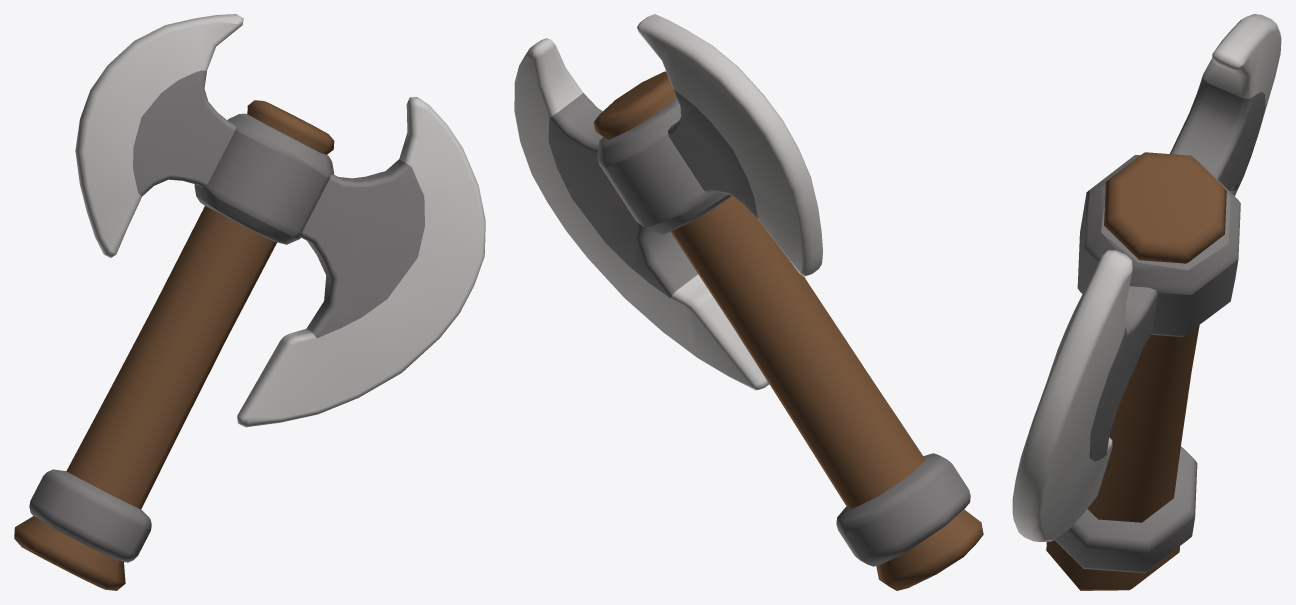
3 views of the same model, side by side, from view 1: azimuth 30°, elevation 25°; view 2: azimuth 150°, elevation 25°; view 3: azimuth 270°, elevation 25° (orthographic). The views are drawn at different scales.
Visible parts, largest first — view 1: model_1.016; view 2: model_1.016; view 3: model_1.016.
Boxes of the visible parts, left/top/right/bottom form: model_1.016: left=14, top=14, right=485, bottom=590; model_1.016: left=514, top=14, right=983, bottom=590; model_1.016: left=1012, top=14, right=1281, bottom=590.
Bounding box in the file's own units: 4.35 × 4.75 × 1.77.
